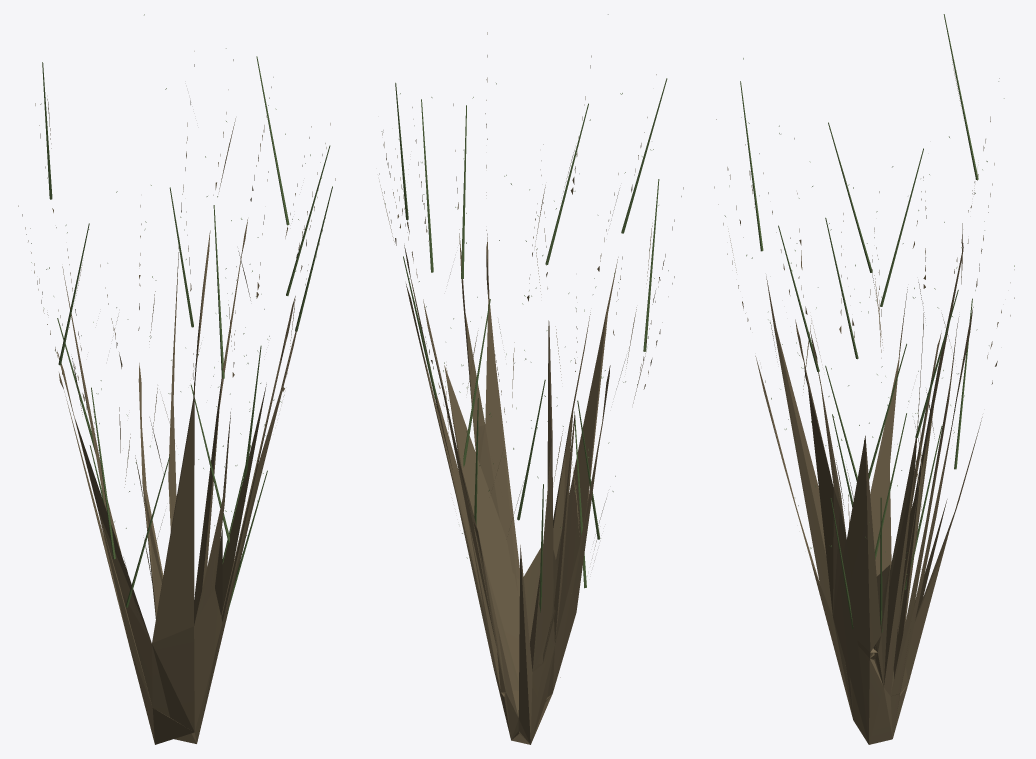
Rendered from BruyereBalais_1_Niveau2.fbx.
3 renders of one model, left to right at view 1: azimuth 30°, elevation 25°; view 2: azimuth 150°, elevation 25°; view 3: azimuth 270°, elevation 25°, orthographic.
Visible parts, largest first — view 1: BruyereBalais_1_Niveau2; view 2: BruyereBalais_1_Niveau2; view 3: BruyereBalais_1_Niveau2.
Boxes of the visible parts, left/top/right/bottom form: BruyereBalais_1_Niveau2: left=18, top=14, right=335, bottom=744; BruyereBalais_1_Niveau2: left=379, top=14, right=683, bottom=744; BruyereBalais_1_Niveau2: left=714, top=14, right=1014, bottom=744.
Bounding box in the file's own units: 93.65 × 218 × 89.76.
